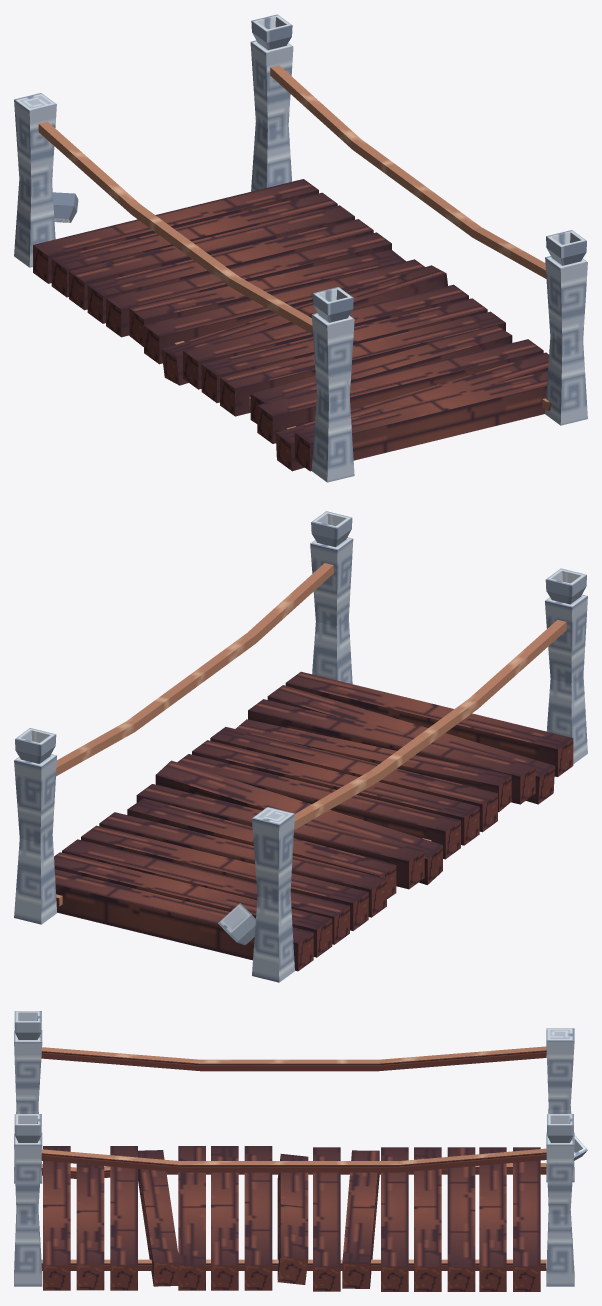
Rendered from Ponte.fbx.
The picture shows the model from 3 angles, top to bottom: view 1: azimuth 30°, elevation 25°; view 2: azimuth 150°, elevation 25°; view 3: azimuth 270°, elevation 25°; orthographic projection. The views are drawn at different scales.
Parts seen in each view (by area): view 1: Ponte; view 2: Ponte; view 3: Ponte.
Boxes of the visible parts, left/top/right/bottom form: Ponte: left=14, top=14, right=587, bottom=482; Ponte: left=14, top=511, right=587, bottom=982; Ponte: left=14, top=1011, right=587, bottom=1291.
Bounding box in the file's own units: 598 × 1204 × 401.
